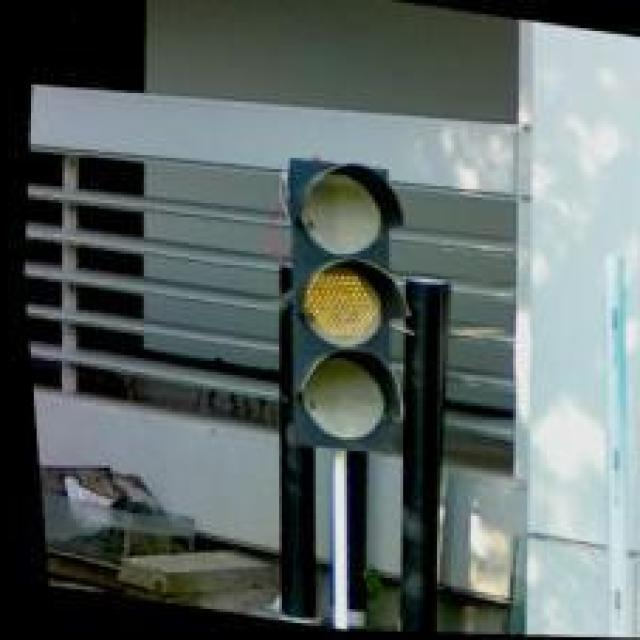yellow: (254, 156, 428, 458)
